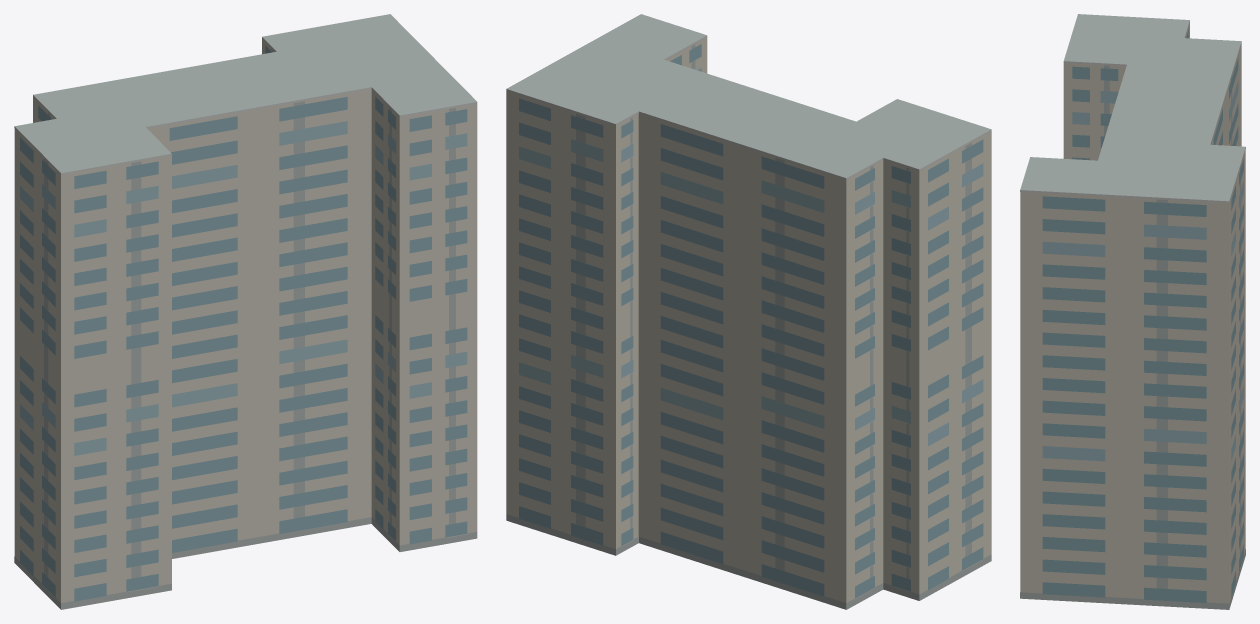
File: residential-8e61ded7-4f19-44af-824e-ddafa4887876.glb
3 views of the same model, side by side, from view 1: azimuth 30°, elevation 25°; view 2: azimuth 150°, elevation 25°; view 3: azimuth 270°, elevation 25° (orthographic). The views are drawn at different scales.
Visible parts, largest first — view 1: residential-8e61ded7-4f19-44af-824e-ddafa4887876.tmp; view 2: residential-8e61ded7-4f19-44af-824e-ddafa4887876.tmp; view 3: residential-8e61ded7-4f19-44af-824e-ddafa4887876.tmp.
Part boxes in pixels (x1,y1,x2,y2): residential-8e61ded7-4f19-44af-824e-ddafa4887876.tmp: [14, 14, 477, 609]; residential-8e61ded7-4f19-44af-824e-ddafa4887876.tmp: [506, 14, 991, 609]; residential-8e61ded7-4f19-44af-824e-ddafa4887876.tmp: [1020, 14, 1245, 609].
Bounding box in the file's own units: 47.19 × 48 × 24.03.
